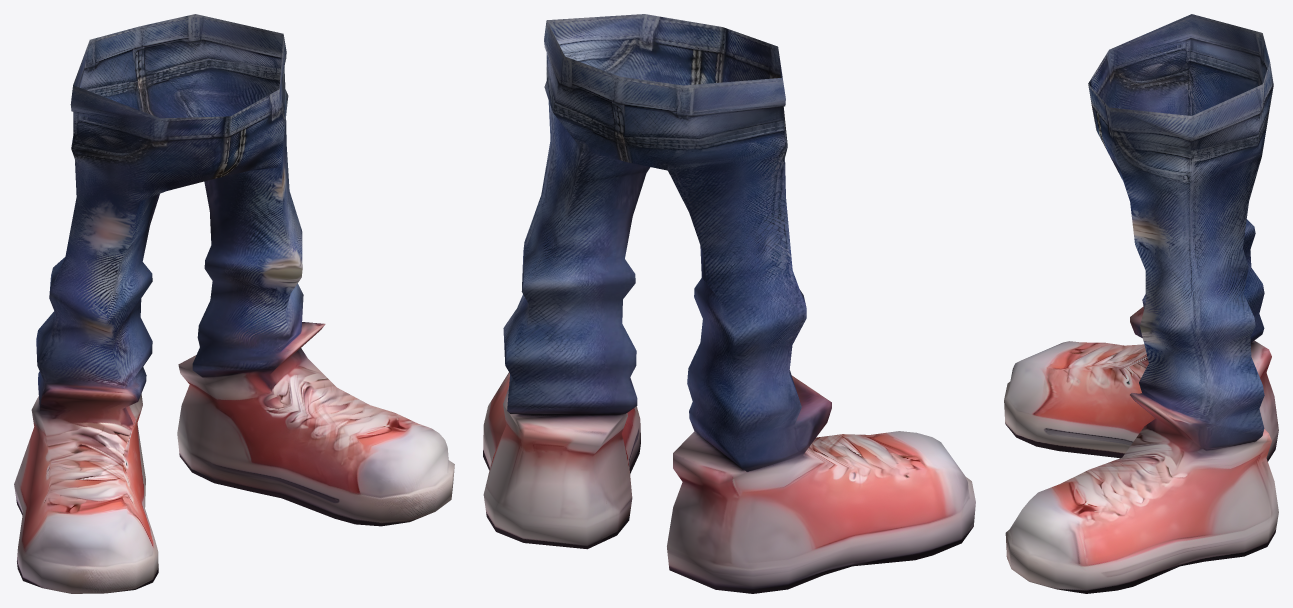
Rendered from crowd_legs_m7_jeans_sneakers.fbx.
The picture shows the model from 3 angles, left to right: view 1: azimuth 30°, elevation 25°; view 2: azimuth 150°, elevation 25°; view 3: azimuth 270°, elevation 25°; orthographic projection. The views are drawn at different scales.
Visible parts, largest first — view 1: tripo_node_02a66a10-4cf1-47f8-900e-9cb0a746f692; view 2: tripo_node_02a66a10-4cf1-47f8-900e-9cb0a746f692; view 3: tripo_node_02a66a10-4cf1-47f8-900e-9cb0a746f692.
Boxes of the visible parts, x1,y1,x2,y2 form: tripo_node_02a66a10-4cf1-47f8-900e-9cb0a746f692: [14, 14, 454, 593]; tripo_node_02a66a10-4cf1-47f8-900e-9cb0a746f692: [483, 14, 975, 593]; tripo_node_02a66a10-4cf1-47f8-900e-9cb0a746f692: [1004, 14, 1278, 593].
Bounding box in the file's own units: 0.9995 × 0.9956 × 0.5698.
1 material, 1 textured.
